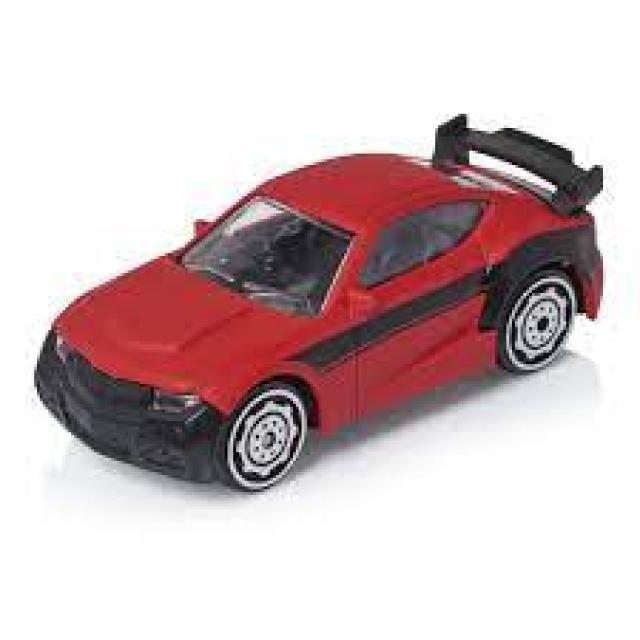Car: (34, 111, 606, 492)
